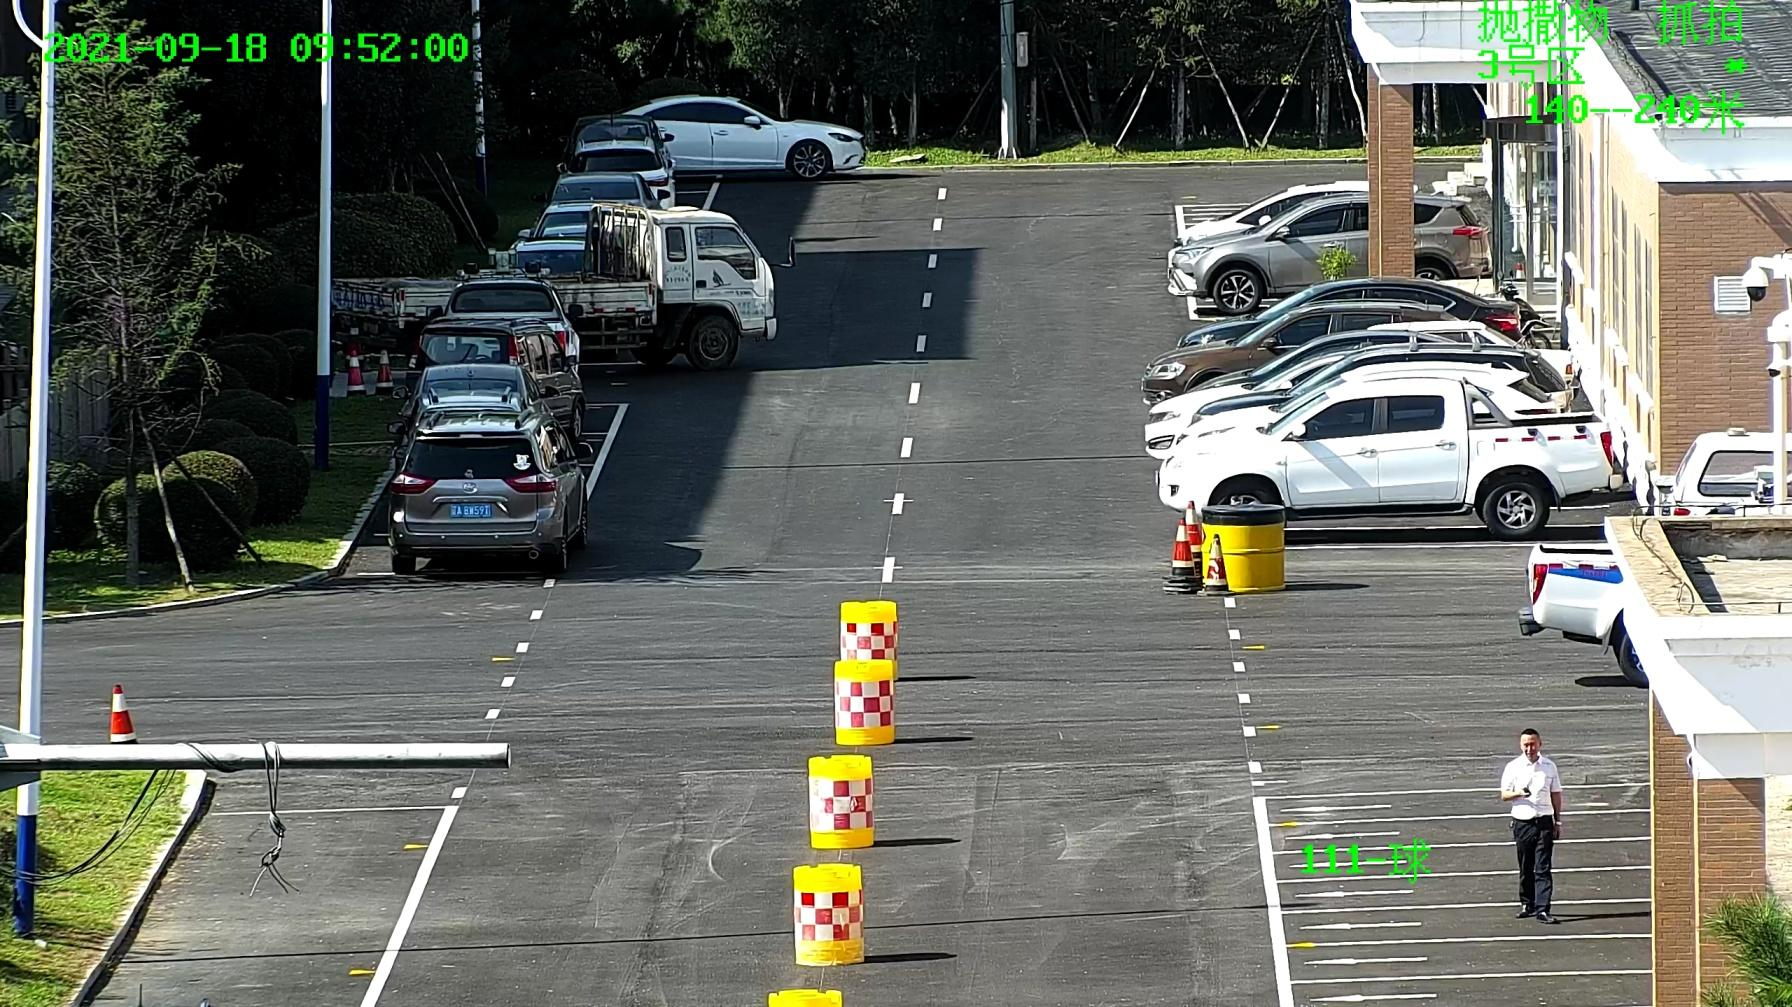cone_barrel: (1198, 506, 1285, 596), (793, 868, 862, 966), (807, 753, 869, 856), (832, 659, 892, 744), (836, 598, 896, 676)
